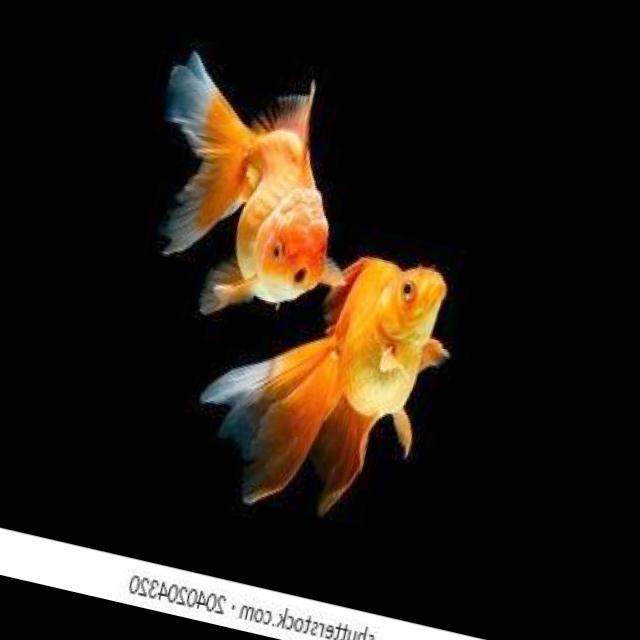GoldFish: (180, 214, 463, 547), (109, 33, 389, 344)
